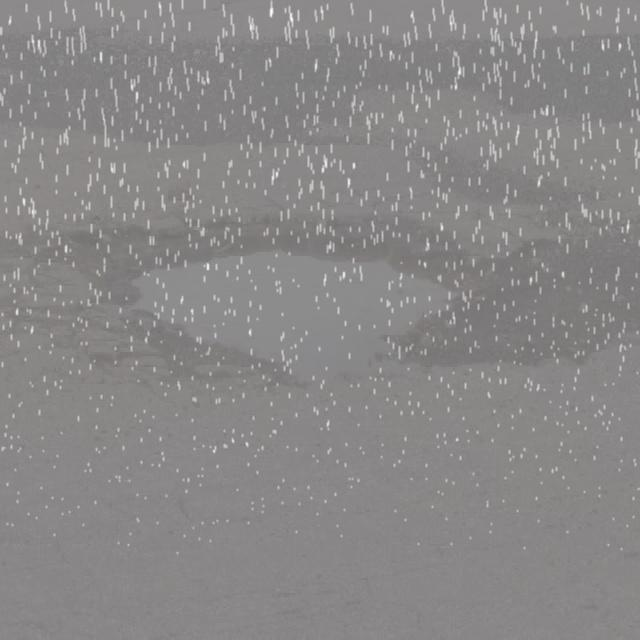Pothole: (45, 183, 640, 445)
